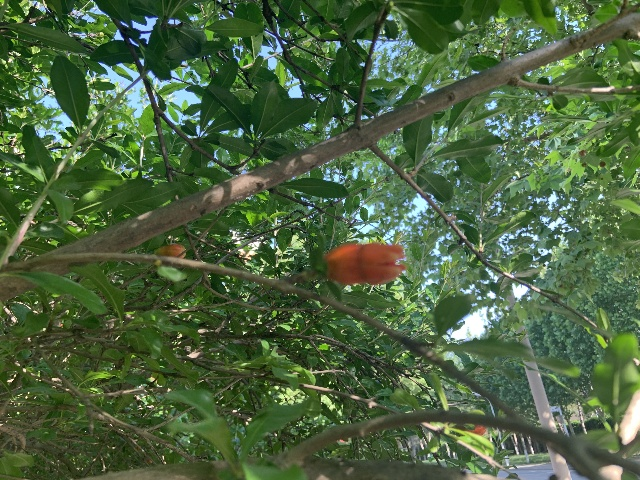bud: (156, 244, 184, 257)
flower: (323, 241, 406, 285)
